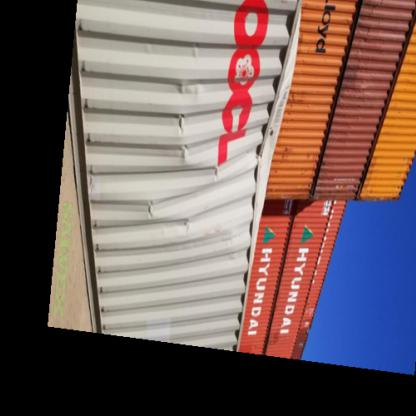Damage: (126, 56, 292, 234)
